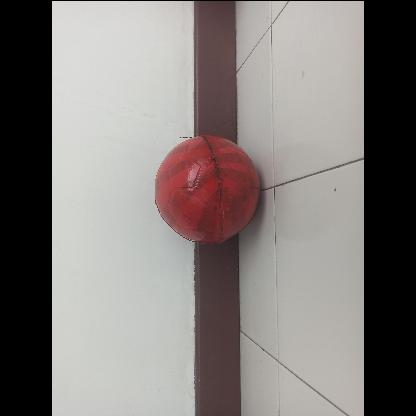red_ball: (152, 136, 258, 242)
